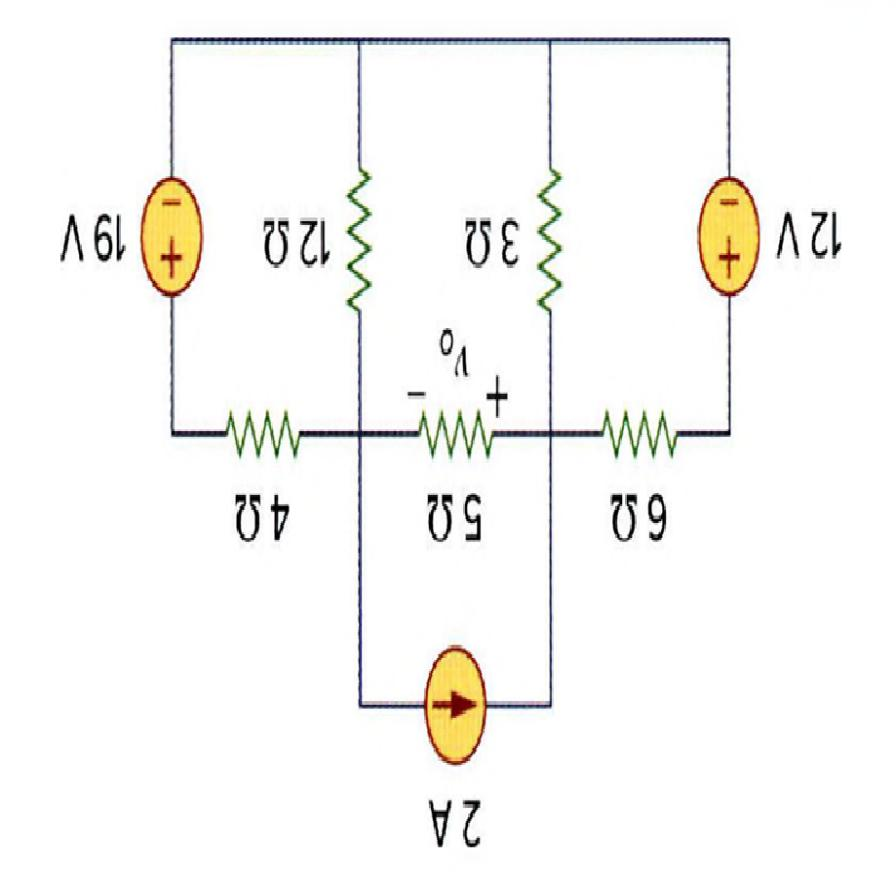I2: (418, 634, 491, 771)
V3: (134, 165, 206, 301), (691, 174, 765, 304)
